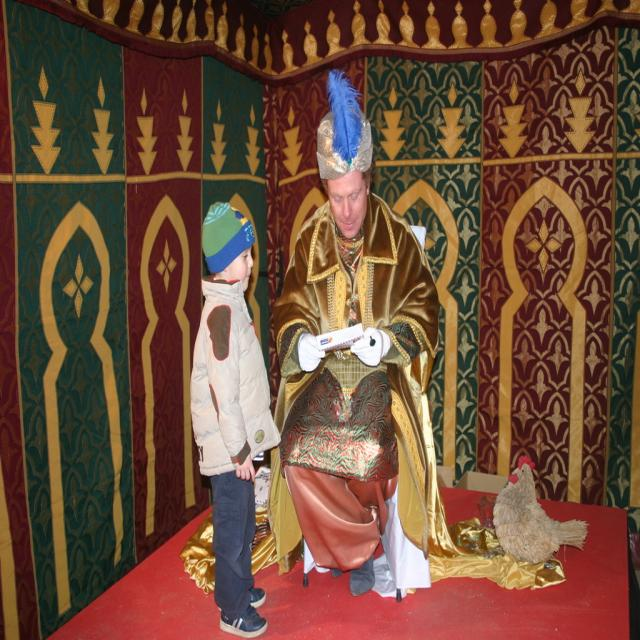Chicken: (493, 456, 589, 564)
